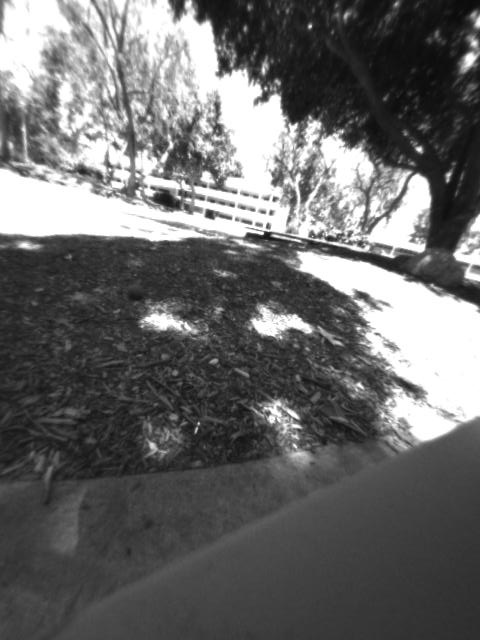dogtoy: (117, 275, 153, 306)
